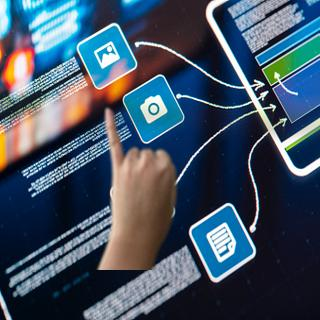Fine: (94, 107, 179, 264)
